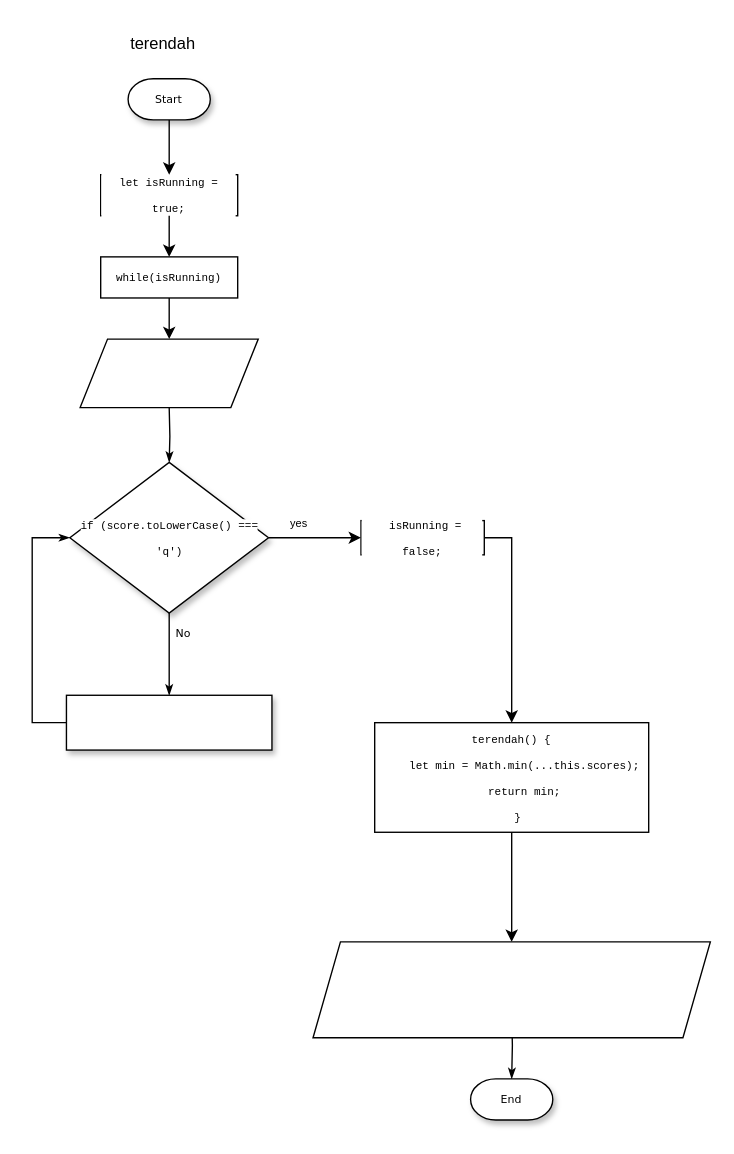
Some shapes in this 734 by 1154 pixel diagram are drawn without their labels. Here are the shapes that lost their labels. From the top down, the centre of each, then its label:
At (168,373): "Masukkan nilai ujian akhir semester mapel ips :".
At (170,724): "scores.push(parseInt(score));".
At (511,989): "console.log(`Nilai terendah : ${student.terendah()}`);".
